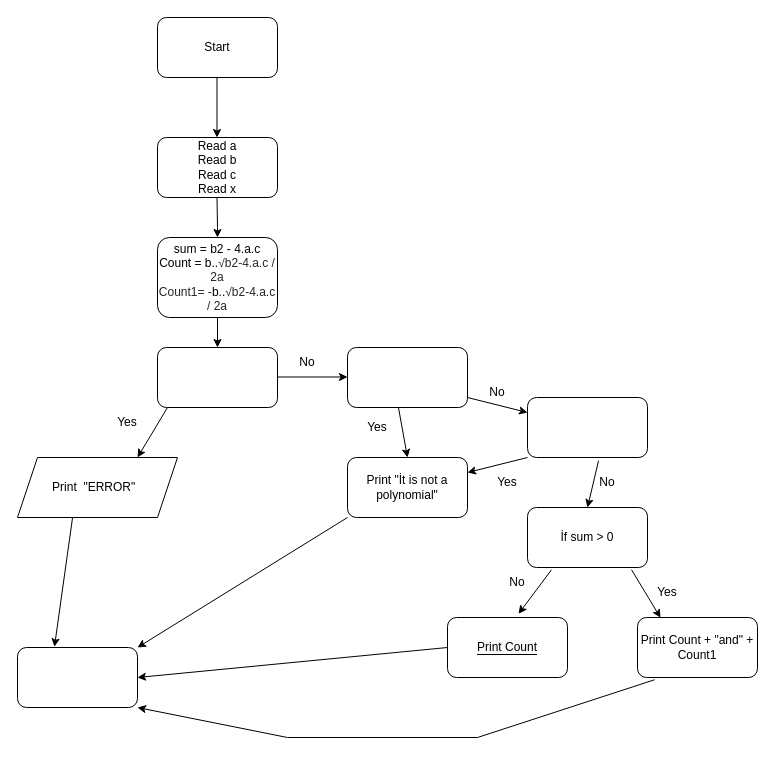
Some shapes in this 775 by 763 pixel diagram are drawn without their labels. The centre of each missing label's shape, as x and y in pixels:
"If sum < 0" goes at [217,377].
"İf b=0" goes at [587,427].
"Stop" goes at [77,677].
"ıf a = 0" goes at [407,377].
